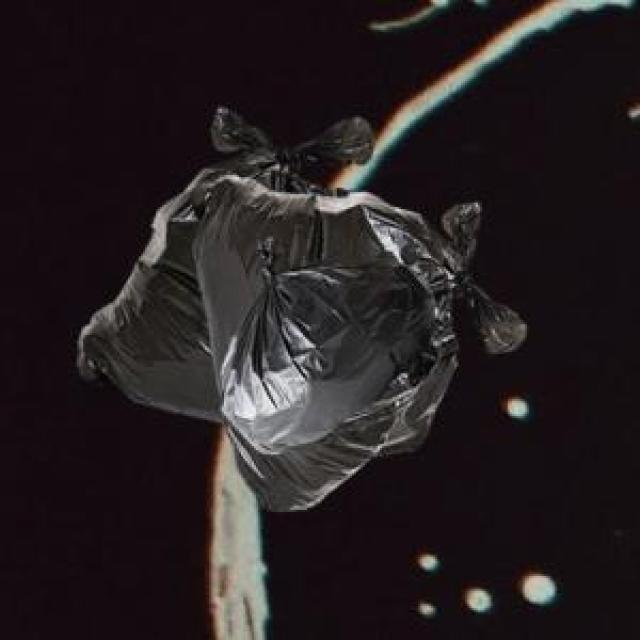waste: (78, 106, 526, 511)
